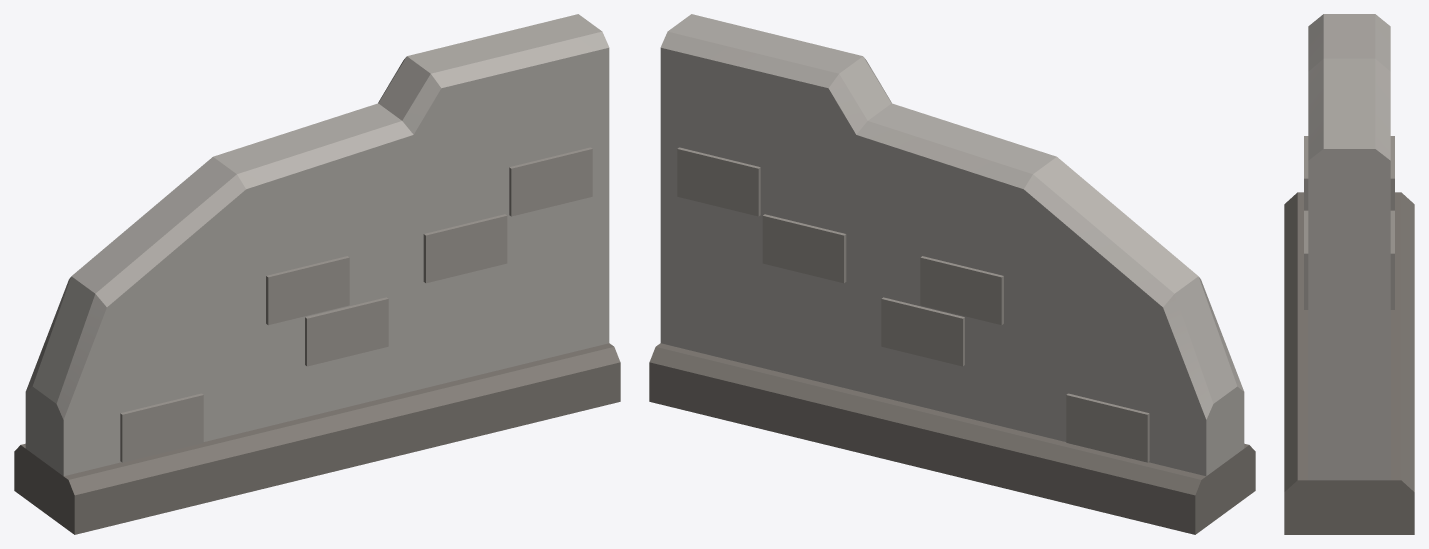
Rendered from Wall 04.FBX.
3 renders of one model, left to right at view 1: azimuth 30°, elevation 25°; view 2: azimuth 150°, elevation 25°; view 3: azimuth 270°, elevation 25°, orthographic. The views are drawn at different scales.
Visible parts, largest first — view 1: Wall 04; view 2: Wall 04; view 3: Wall 04.
Part boxes in pixels (box(x1,y1,x2,y2)): Wall 04: box(14, 14, 620, 534); Wall 04: box(649, 14, 1255, 534); Wall 04: box(1284, 14, 1414, 534).
Bounding box in the file's own units: 400 × 250 × 76.34.
1 material, 1 textured.
